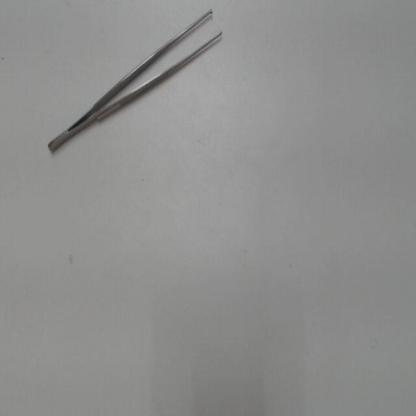Gillies Toothed Dissector: (41, 6, 236, 163)
